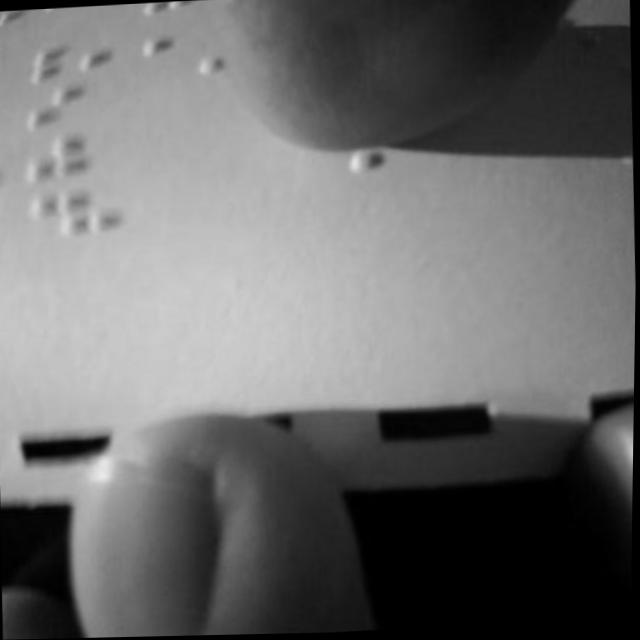braiile: (26, 135, 127, 190), (20, 39, 120, 91), (17, 88, 120, 136), (21, 192, 120, 239)
